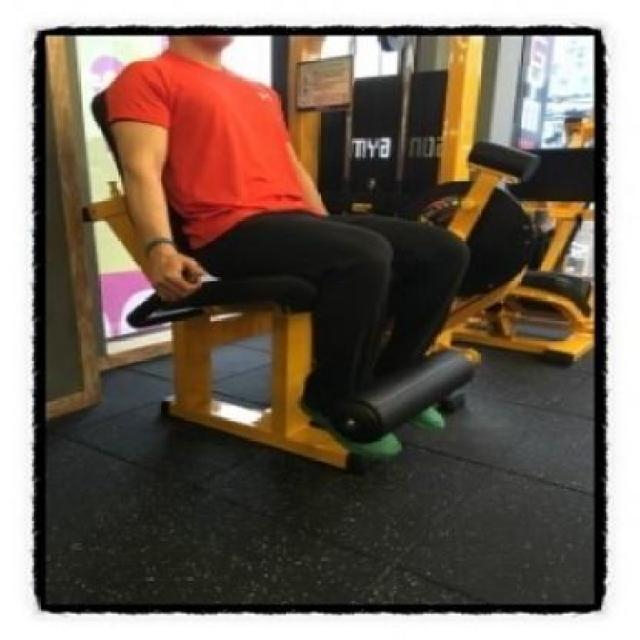leg extension: (40, 25, 554, 506)
